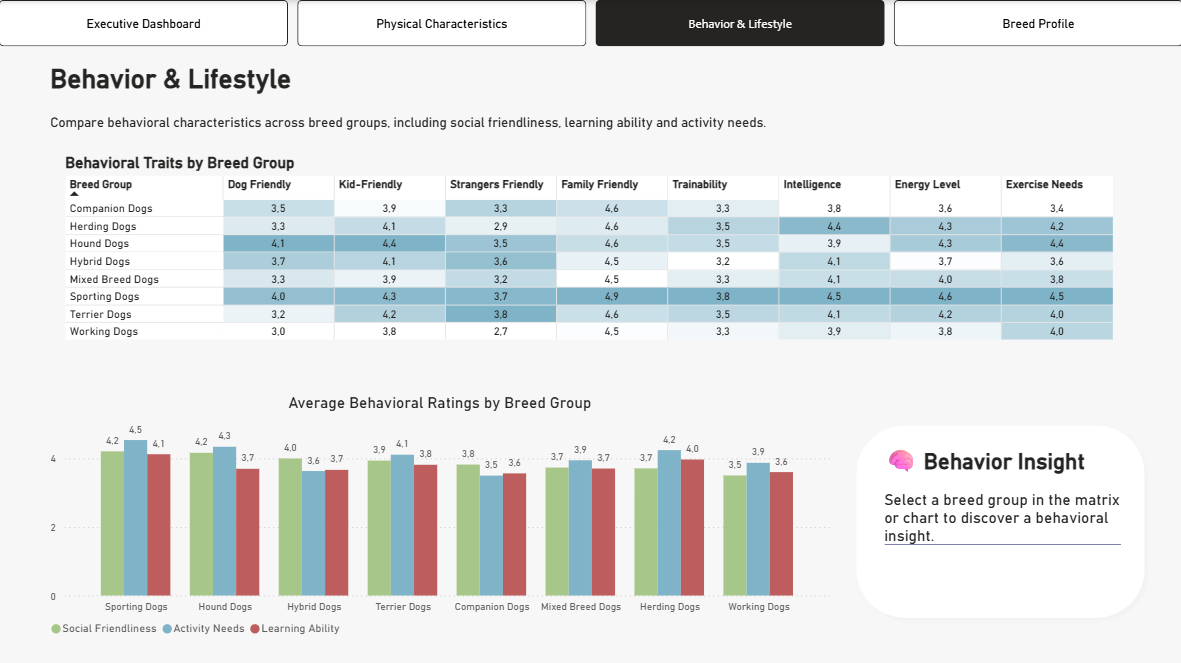

Layout of this report page (visuals, bound fields, positions):
{"tool":"powerbi","page":{"name":"Behavior & Lifestyle","canvas":[1280,720],"ordinal":2},"visuals":[{"type":"shape","box":[917.2,450,329.3,225.9],"z":0},{"type":"pivotTable","title":"Behavioral Traits by Breed Group","fields":{"Rows":["Breed Groups.Dog Breed Group"],"Values":["Avg(Dogs.Dog Friendly)","Avg(Dogs.Kid-Friendly)","Avg(Dogs.Friendly Toward Strangers)","Avg(Dogs.Affectionate With Family)","Avg(Dogs.Trainability)","Avg(Dogs.Intelligence)","Avg(Dogs.Energy Level)","Avg(Dogs.Exercise Needs)"]},"box":[66.4,165.2,1149.7,239.6],"z":1000},{"type":"clusteredColumnChart","title":"Average Behavioral Ratings by Breed Group","fields":{"Category":["Breed Groups.Dog Breed Group"],"Y":["Metriky.Average Family Friendliness","Metriky.Average Trainability","Metriky.Average Intelligence"]},"box":[50.2,424.2,851.7,273.6],"z":2000},{"type":"pageNavigator","box":[0,0,1280.8,50.2],"z":3000},{"type":"textbox","box":[50.2,63.1,555.4,79.3],"z":4000},{"type":"textbox","box":[50.2,118.2,1135.1,47],"z":5000},{"type":"textbox","box":[950,472.4,265.5,203.4],"z":6000}]}

Visuals, with their boxes in screenshot pixels (x1, y1, x2, y2), scaled from the page's 1280x720 canvas onto the 1181x663 screenshot:
shape: [left=846, top=414, right=1150, bottom=622]
"Behavioral Traits by Breed Group" pivotTable: [left=61, top=152, right=1122, bottom=373]
"Average Behavioral Ratings by Breed Group" clusteredColumnChart: [left=46, top=391, right=832, bottom=643]
pageNavigator: [left=0, top=0, right=1180, bottom=46]
textbox: [left=46, top=58, right=559, bottom=131]
textbox: [left=46, top=109, right=1094, bottom=152]
textbox: [left=877, top=435, right=1121, bottom=622]
